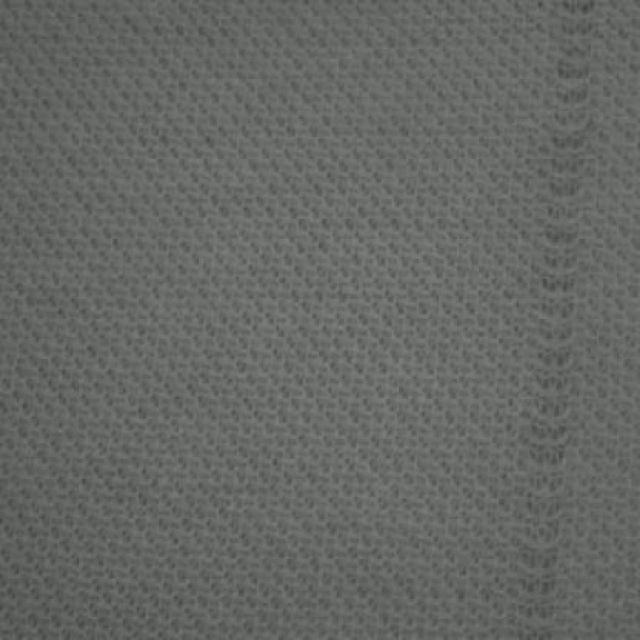Line: (516, 0, 598, 640)
